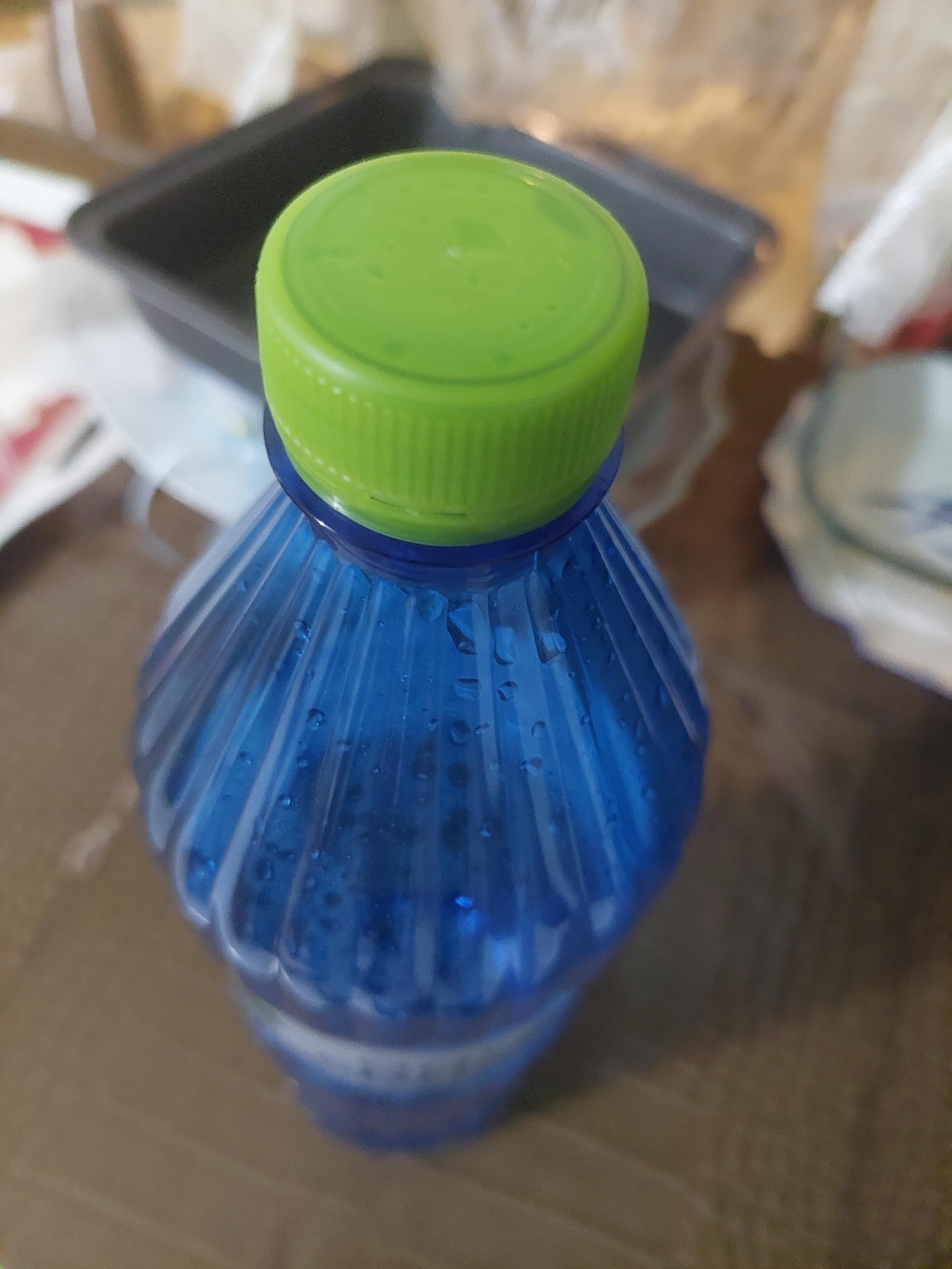bottle: (130, 148, 711, 1151)
